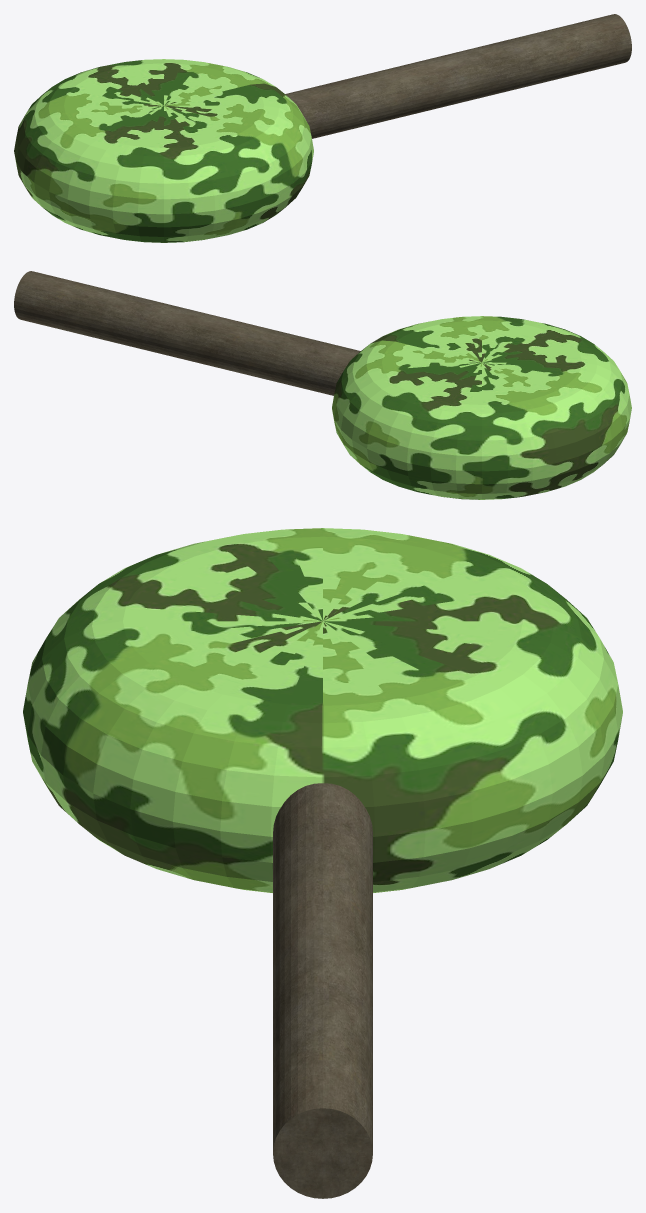
File: tank_top2.obj
The picture shows the model from 3 angles, top to bottom: view 1: azimuth 30°, elevation 25°; view 2: azimuth 150°, elevation 25°; view 3: azimuth 270°, elevation 25°; orthographic projection. The views are drawn at different scales.
Parts seen in each view (by area): view 1: Null aufbau, Null aufbau rohr; view 2: Null aufbau, Null aufbau rohr; view 3: Null aufbau, Null aufbau rohr.
Part boxes in pixels (left/top/right/bottom): Null aufbau: left=14, top=59, right=313, bottom=242; Null aufbau rohr: left=285, top=14, right=631, bottom=138; Null aufbau: left=332, top=316, right=631, bottom=499; Null aufbau rohr: left=14, top=271, right=360, bottom=395; Null aufbau: left=23, top=528, right=622, bottom=892; Null aufbau rohr: left=273, top=783, right=372, bottom=1198.
Size of the model in its own units: 1.35 by 0.2 by 0.6.
2 materials, 2 textured.
